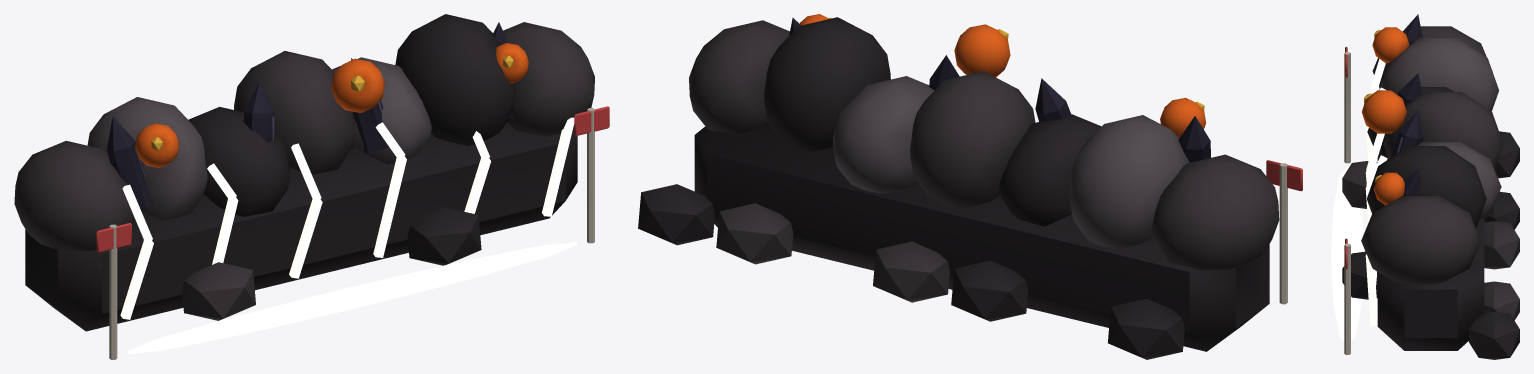
File: x_barrier_vulkan.glb
The picture shows the model from 3 angles, left to right: view 1: azimuth 30°, elevation 25°; view 2: azimuth 150°, elevation 25°; view 3: azimuth 270°, elevation 25°; orthographic projection. The views are drawn at different scales.
Parts seen in each view (by area): view 1: body, crack_glow, pulse_bubble2, pulse_bubble1, pulse_bubble3; view 2: body, pulse_bubble2, pulse_bubble1; view 3: body, crack_glow, pulse_bubble2, pulse_bubble1, pulse_bubble3.
Boxes of the visible parts, <box> form: body: <box>14,14,609,359</box>; crack_glow: <box>120,117,576,354</box>; pulse_bubble2: <box>331,58,384,112</box>; pulse_bubble1: <box>135,123,179,167</box>; pulse_bubble3: <box>496,43,528,83</box>; body: <box>638,17,1302,359</box>; pulse_bubble2: <box>954,24,1010,77</box>; pulse_bubble1: <box>1160,97,1205,137</box>; body: <box>1342,14,1519,359</box>; crack_glow: <box>1331,59,1387,342</box>; pulse_bubble2: <box>1362,90,1406,133</box>; pulse_bubble1: <box>1372,27,1409,62</box>; pulse_bubble3: <box>1373,172,1404,205</box>.
Bounding box in the file's own units: 8.03 × 2.94 × 2.83.
